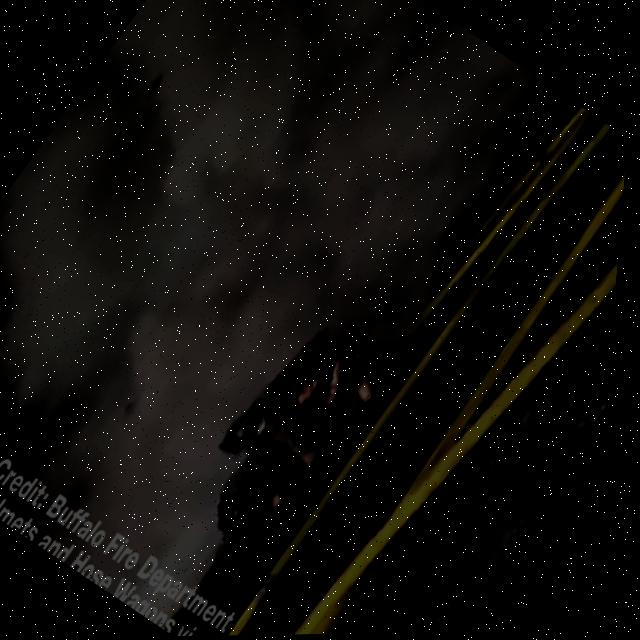Smoke: (0, 0, 580, 569)
